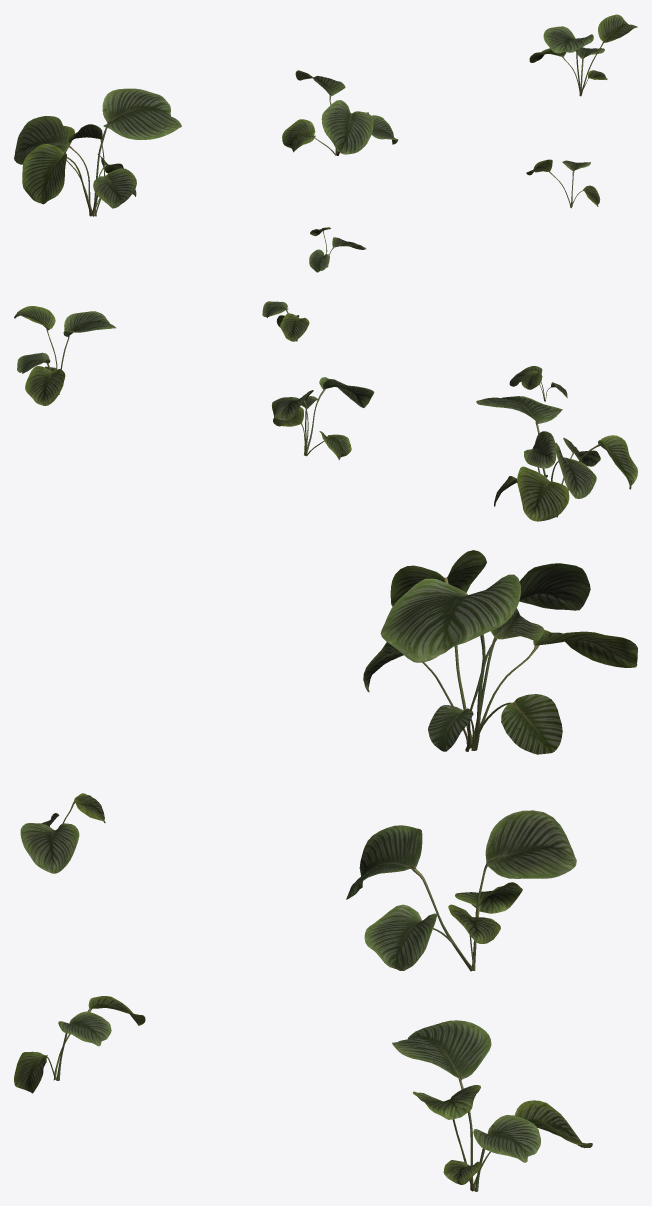
File: calathea_orbifolia_01.glb
The picture shows the model from 3 angles, top to bottom: view 1: azimuth 30°, elevation 25°; view 2: azimuth 150°, elevation 25°; view 3: azimuth 270°, elevation 25°; orthographic projection. The views are drawn at different scales.
Parts seen in each view (by area): view 1: calathea_orbifolia_01_a, calathea_orbifolia_01_b, calathea_orbifolia_01_c, calathea_orbifolia_01_e, calathea_orbifolia_01_d; view 2: calathea_orbifolia_01_a, calathea_orbifolia_01_c, calathea_orbifolia_01_b, calathea_orbifolia_01_e, calathea_orbifolia_01_d; view 3: calathea_orbifolia_01_a, calathea_orbifolia_01_b, calathea_orbifolia_01_c, calathea_orbifolia_01_e, calathea_orbifolia_01_d.
Boxes of the visible parts, bbox=[...] form: calathea_orbifolia_01_a: bbox=[14, 88, 181, 216]; calathea_orbifolia_01_b: bbox=[282, 70, 398, 155]; calathea_orbifolia_01_c: bbox=[529, 14, 637, 96]; calathea_orbifolia_01_e: bbox=[526, 159, 600, 208]; calathea_orbifolia_01_d: bbox=[309, 227, 366, 272]; calathea_orbifolia_01_a: bbox=[476, 396, 637, 521]; calathea_orbifolia_01_c: bbox=[14, 306, 115, 405]; calathea_orbifolia_01_b: bbox=[271, 377, 374, 459]; calathea_orbifolia_01_e: bbox=[262, 301, 309, 341]; calathea_orbifolia_01_d: bbox=[509, 366, 567, 401]; calathea_orbifolia_01_a: bbox=[363, 550, 637, 754]; calathea_orbifolia_01_b: bbox=[346, 810, 576, 971]; calathea_orbifolia_01_c: bbox=[392, 1020, 592, 1191]; calathea_orbifolia_01_e: bbox=[14, 996, 145, 1093]; calathea_orbifolia_01_d: bbox=[20, 793, 105, 873].
Bounding box in the file's own units: 2.49 × 0.4243 × 1.19.
1 material, 1 textured.
